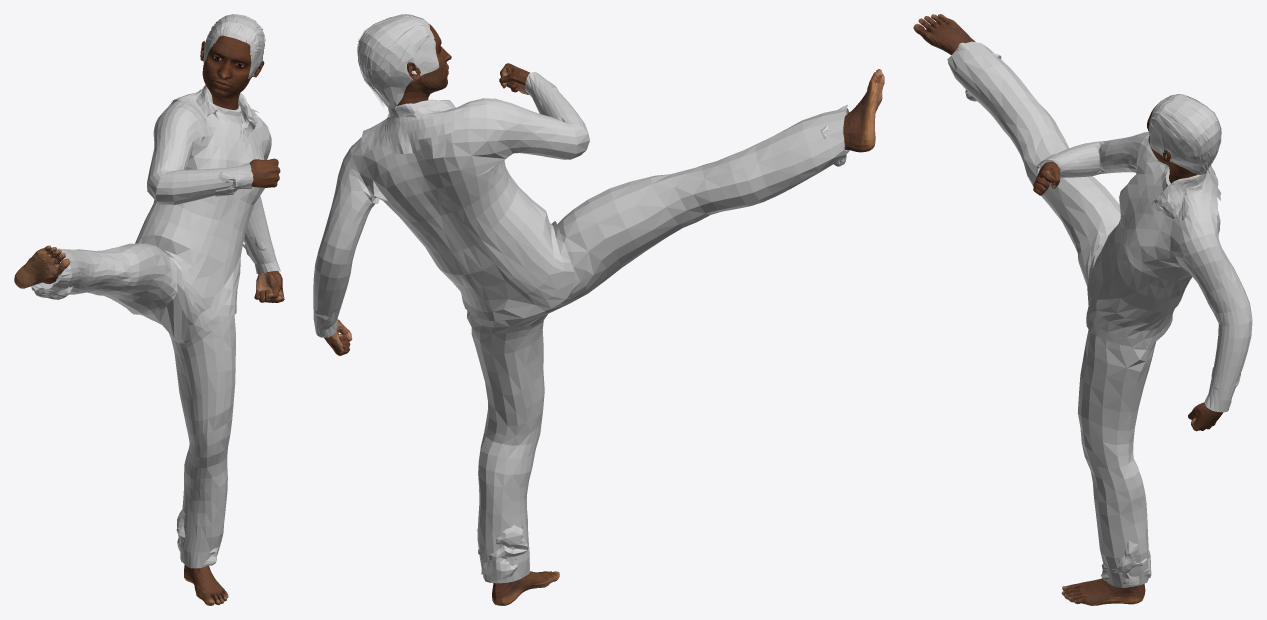
The model's file is human_02_fight.obj.
The picture shows the model from 3 angles, left to right: view 1: azimuth 30°, elevation 25°; view 2: azimuth 150°, elevation 25°; view 3: azimuth 270°, elevation 25°; orthographic projection. The views are drawn at different scales.
Parts seen in each view (by area): view 1: male_casualsuit02.obj, base.obj, male_casualsuit01.obj, short04.obj; view 2: male_casualsuit02.obj, base.obj, male_casualsuit01.obj, short04.obj; view 3: male_casualsuit02.obj, base.obj, short04.obj, male_casualsuit01.obj.
Boxes of the visible parts, x1,y1,x2,y2 form: male_casualsuit02.obj: (27,89,280,568); base.obj: (14,34,284,605); male_casualsuit01.obj: (31,85,274,565); short04.obj: (203,14,265,78); male_casualsuit02.obj: (313,72,849,583); base.obj: (324,24,884,605); male_casualsuit01.obj: (315,81,847,581); short04.obj: (357,14,439,108); male_casualsuit02.obj: (947,41,1252,587); base.obj: (913,14,1223,605); short04.obj: (1148,94,1221,174); male_casualsuit01.obj: (956,42,1240,584).
Size of the model in its own units: 12.25 by 16.22 by 9.3.
